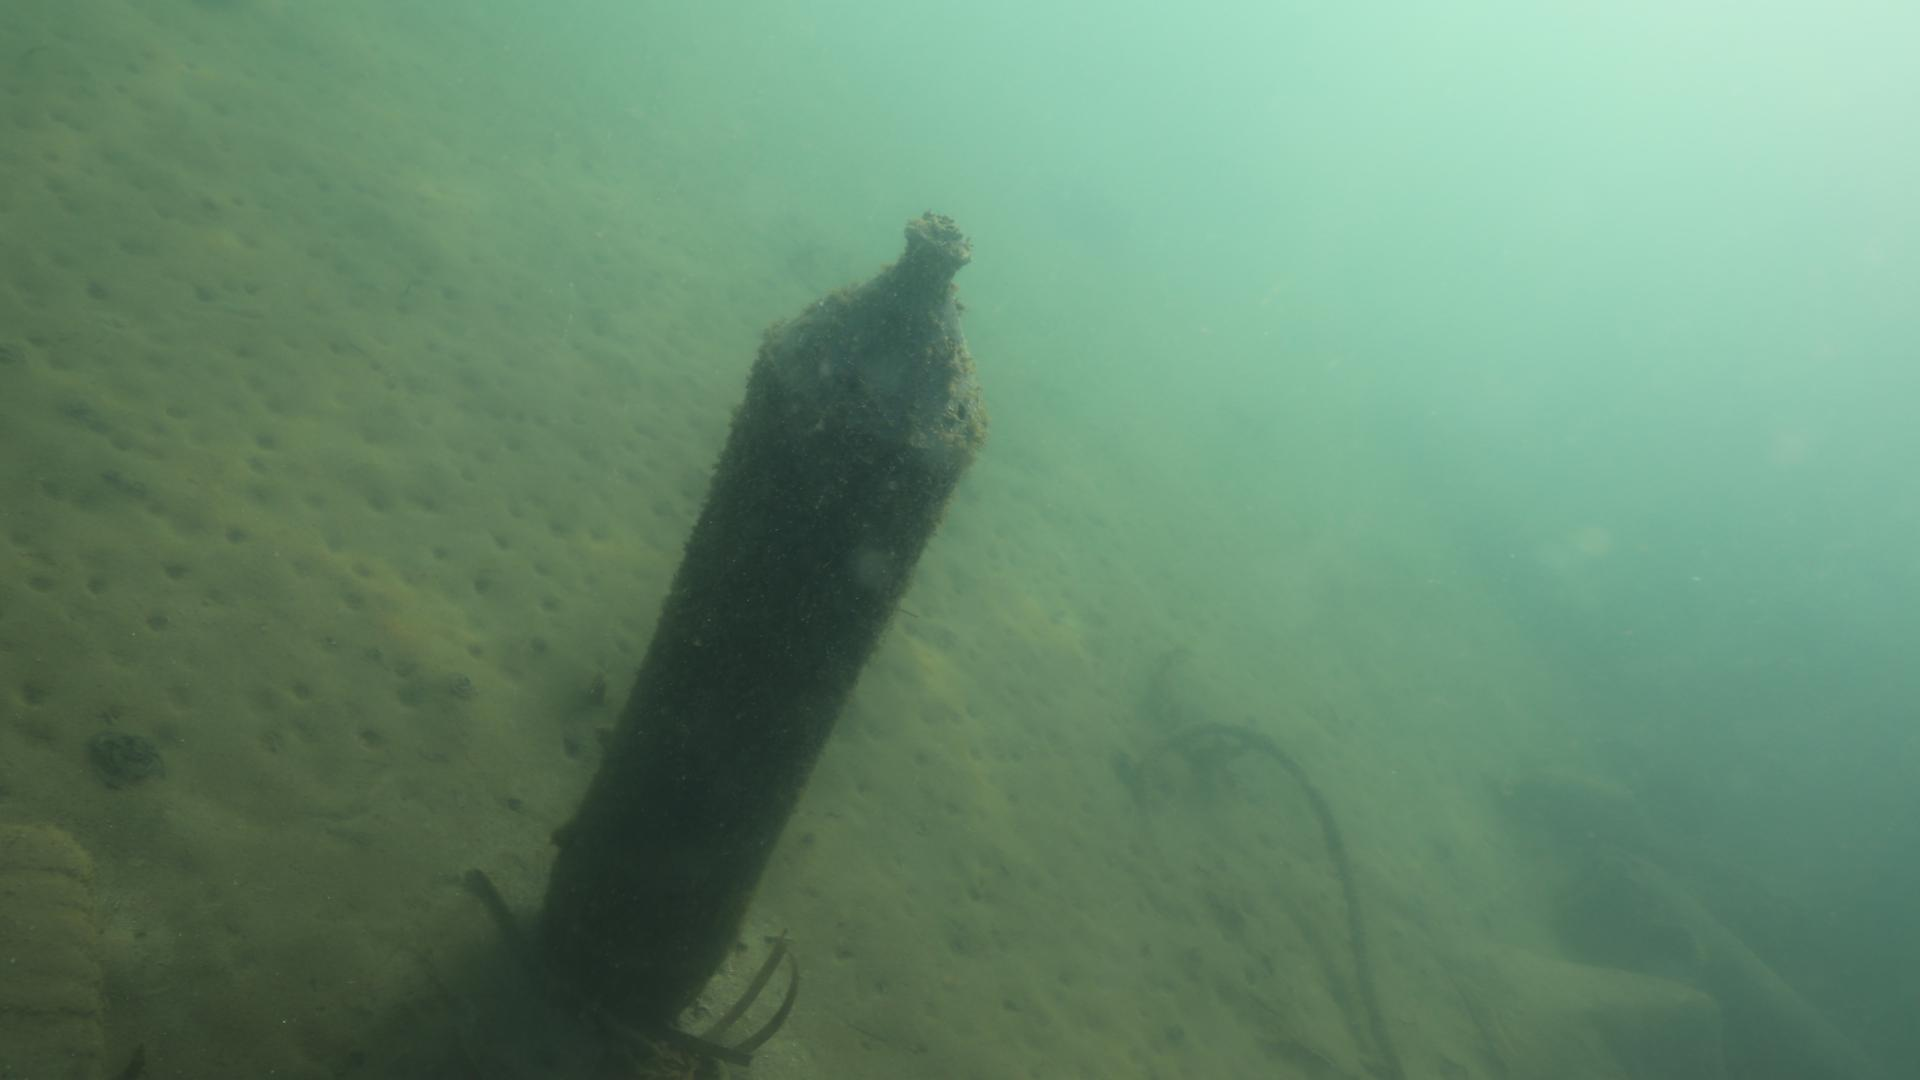eel fish trap: (527, 211, 989, 1027)
